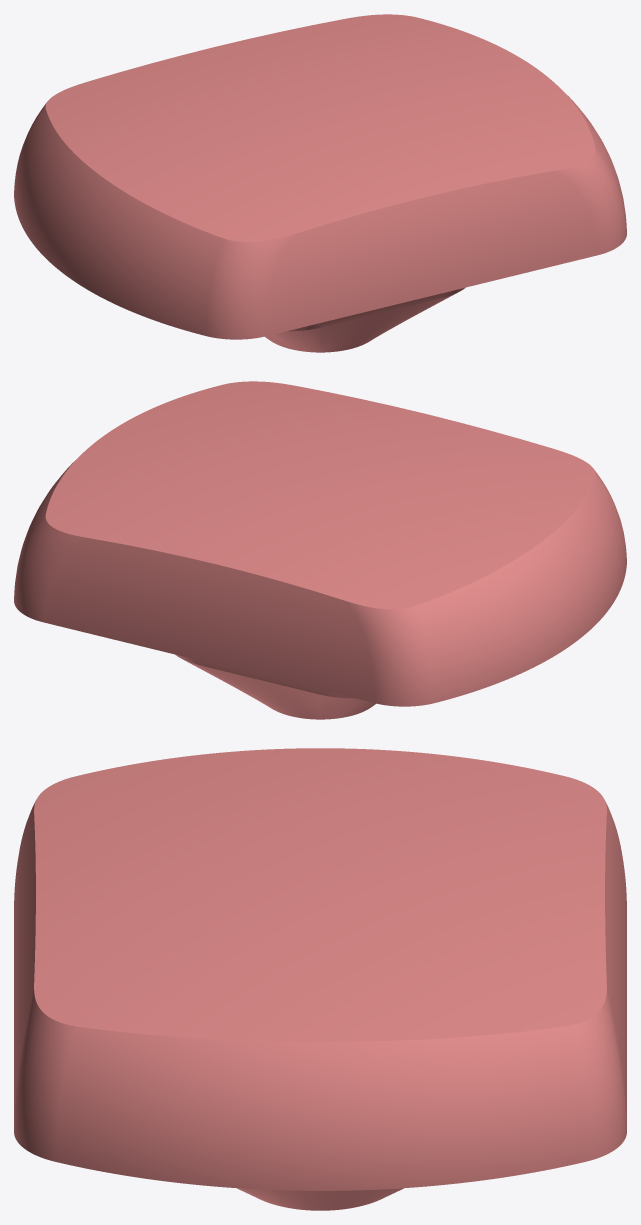
Rendered from OUTFITTING_INTERIOR__EXT. INSTRUMENTS__FWD MAST__Furuno SCX-20 satellite compass.glb.
3 renders of one model, top to bottom at view 1: azimuth 30°, elevation 25°; view 2: azimuth 150°, elevation 25°; view 3: azimuth 270°, elevation 25°, orthographic. The views are drawn at different scales.
Visible parts, largest first — view 1: Furuno SCX-20 satellite compass; view 2: Furuno SCX-20 satellite compass; view 3: Furuno SCX-20 satellite compass.
Boxes of the visible parts, box(x1,y1,x2,y2) form: Furuno SCX-20 satellite compass: box(14, 14, 626, 352); Furuno SCX-20 satellite compass: box(14, 381, 626, 719); Furuno SCX-20 satellite compass: box(14, 748, 626, 1210).
Size of the model in its own units: 0.251 by 0.1023 by 0.1908.
